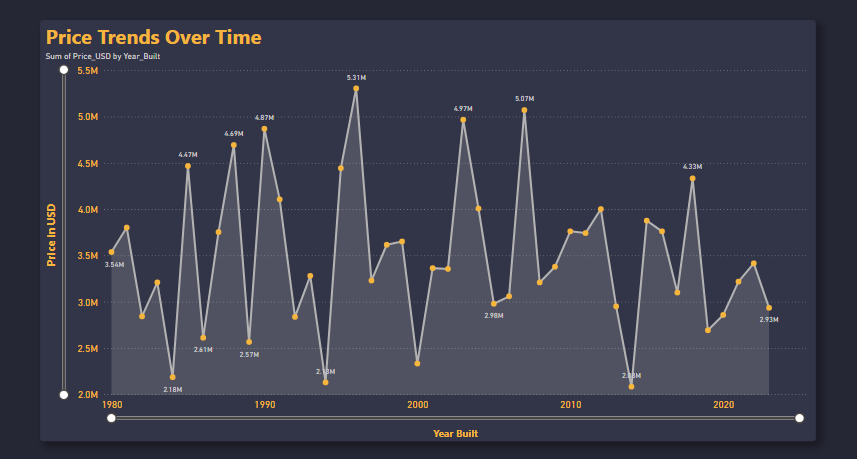

What the dashboard file says about the page in this screenshot:
{"tool":"powerbi","page":{"name":"Price Trends Over Time","canvas":[1280,720],"ordinal":1},"visuals":[{"type":"lineChart","title":"Price Trends Over Time","fields":{"Category":["Sheet1.Year_Built"],"Y":["Sum(Sheet1.Price_USD)"]},"box":[70.5,41.1,1140.2,618.6],"z":0}]}

Visuals, with their boxes on the page's 1280x720 design canvas (x1, y1, x2, y2). These are canvas units, not pixel positions in the 857x459 screenshot, which may show the page scaled, cropped or inside an application window:
"Price Trends Over Time" lineChart: bbox=(70, 41, 1211, 660)
